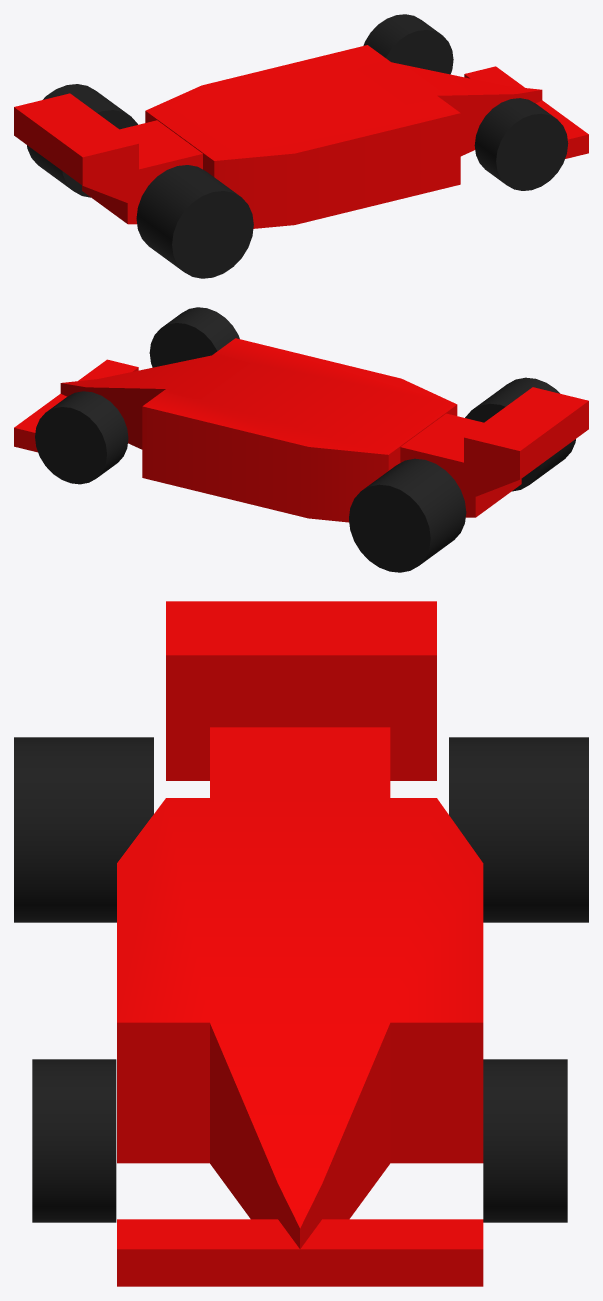
The picture shows the model from 3 angles, top to bottom: view 1: azimuth 30°, elevation 25°; view 2: azimuth 150°, elevation 25°; view 3: azimuth 270°, elevation 25°; orthographic projection. The views are drawn at different scales.
Visible parts, largest first — view 1: body, wheel_rr, wheel_fr, wheel_fl, wheel_rl; view 2: body, wheel_rl, wheel_fl, wheel_fr, wheel_rr; view 3: body, wheel_rl, wheel_rr, wheel_fl, wheel_fr.
Part boxes in pixels (x1,y1,x2,y2): body: [14, 45, 588, 228]; wheel_rr: [136, 165, 253, 278]; wheel_fr: [474, 98, 568, 190]; wheel_fl: [363, 14, 453, 74]; wheel_rl: [27, 84, 137, 197]; body: [14, 338, 588, 522]; wheel_rl: [349, 458, 466, 572]; wheel_fl: [35, 391, 128, 484]; wheel_fr: [149, 307, 239, 367]; wheel_rr: [465, 377, 575, 491]; body: [117, 601, 483, 1286]; wheel_rl: [449, 737, 588, 922]; wheel_rr: [14, 737, 153, 922]; wheel_fl: [483, 1059, 567, 1222]; wheel_fr: [32, 1059, 116, 1222].
Bounding box in the file's own units: 164 × 84.25 × 36.38.
